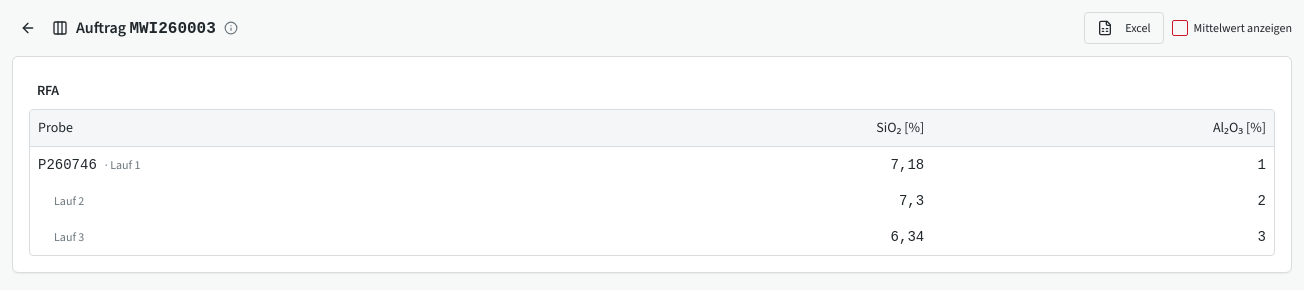
Scenario: Mehrere Werte derselben Spalte ohne eigene Durchlauf-Kennung › Darstellung: kein '/' in den Zellen, Probe nur in der ersten Zeile, Mittelwert mit n=3
Expected: the text "P260746" is shown once, left=38, top=157, right=97, bottom=173
Expected: the text "7,18" is shown, left=616, top=146, right=932, bottom=183
Click the checkbox named "Mittelwert anzeigen": [1180, 28] box left=1172, top=20, right=1188, bottom=36
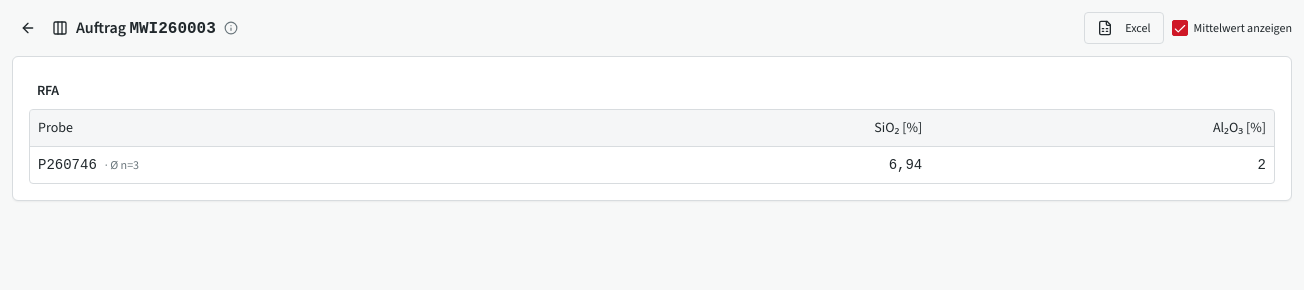
Expected: the text "· Ø n=3" is shown, left=105, top=157, right=139, bottom=173
Expected: the text "6,94" is shown, left=612, top=146, right=930, bottom=183
